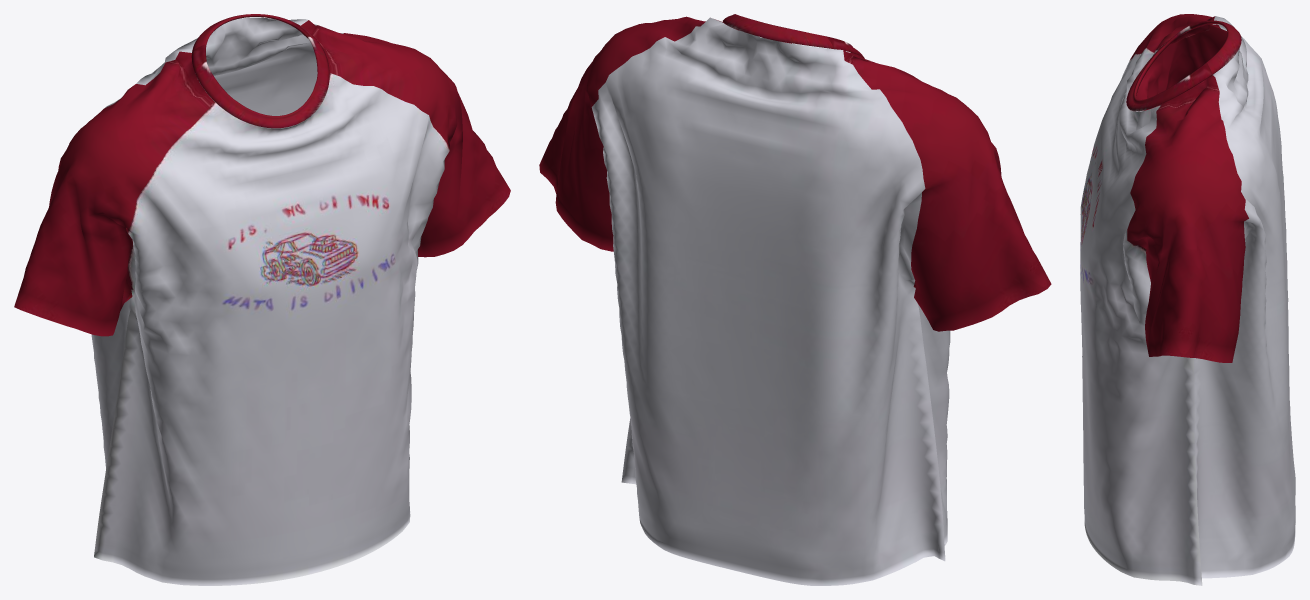
Rendered from tee-S.glb.
3 views of the same model, side by side, from view 1: azimuth 30°, elevation 25°; view 2: azimuth 150°, elevation 25°; view 3: azimuth 270°, elevation 25° (orthographic). The views are drawn at different scales.
Parts seen in each view (by area): view 1: tee; view 2: tee; view 3: tee.
Part boxes in pixels (left/top/right/bottom): tee: left=14, top=14, right=510, bottom=585; tee: left=539, top=14, right=1051, bottom=585; tee: left=1080, top=14, right=1295, bottom=585.
Size of the model in its own units: 0.6596 by 0.6453 by 0.2568.
2 materials, 2 textured.
